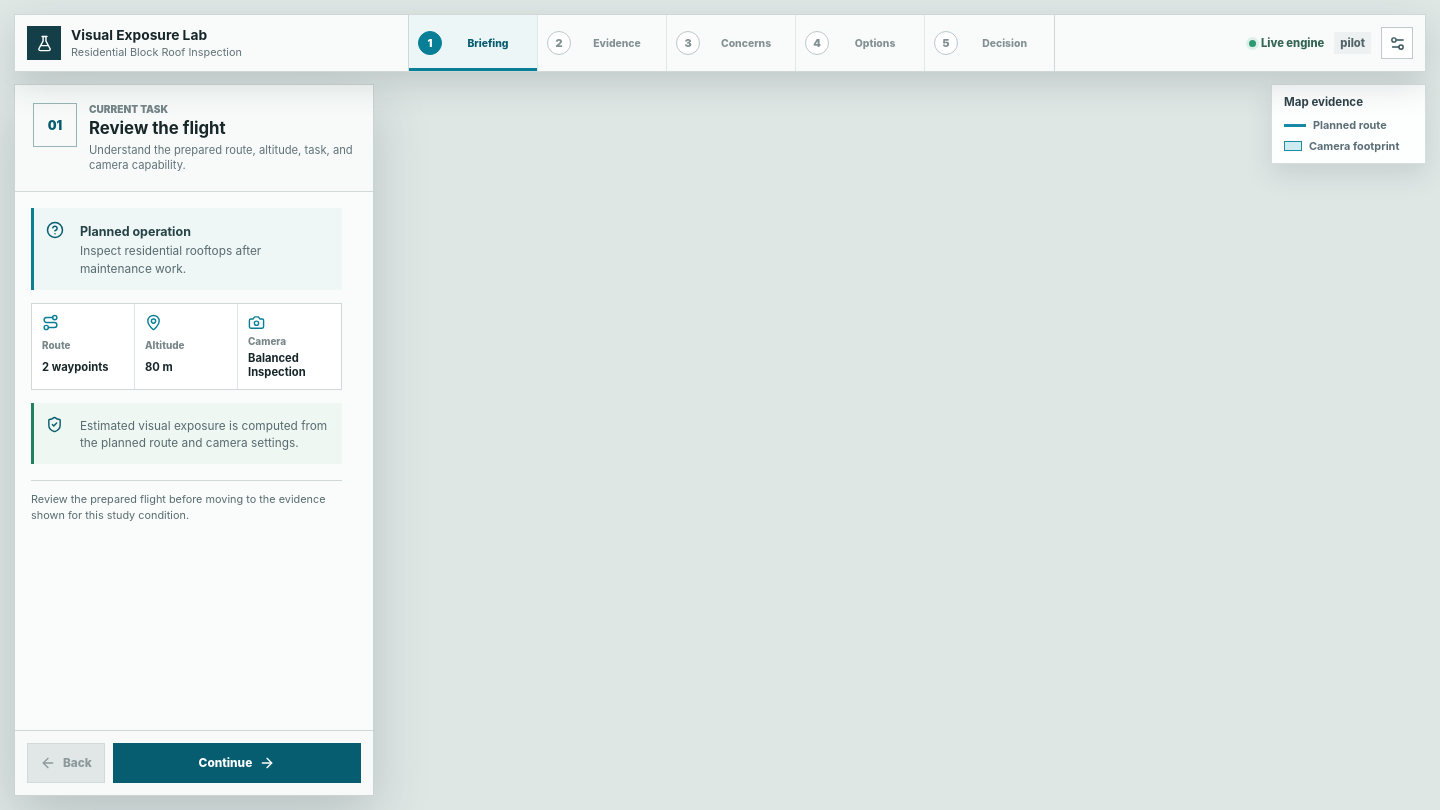
it: Guided App V2 › keeps facilitator controls in a separate drawer
Expected: the heading "Review the flight" is shown, [89, 118, 226, 138]
Expected: the field labelled "Route file" is not shown
What coordinates should you click on to do the following:
click the button named "Researcher controls"
I would click on:
 (1397, 43)
Its box is [1381, 27, 1413, 59].
(page scrolled)
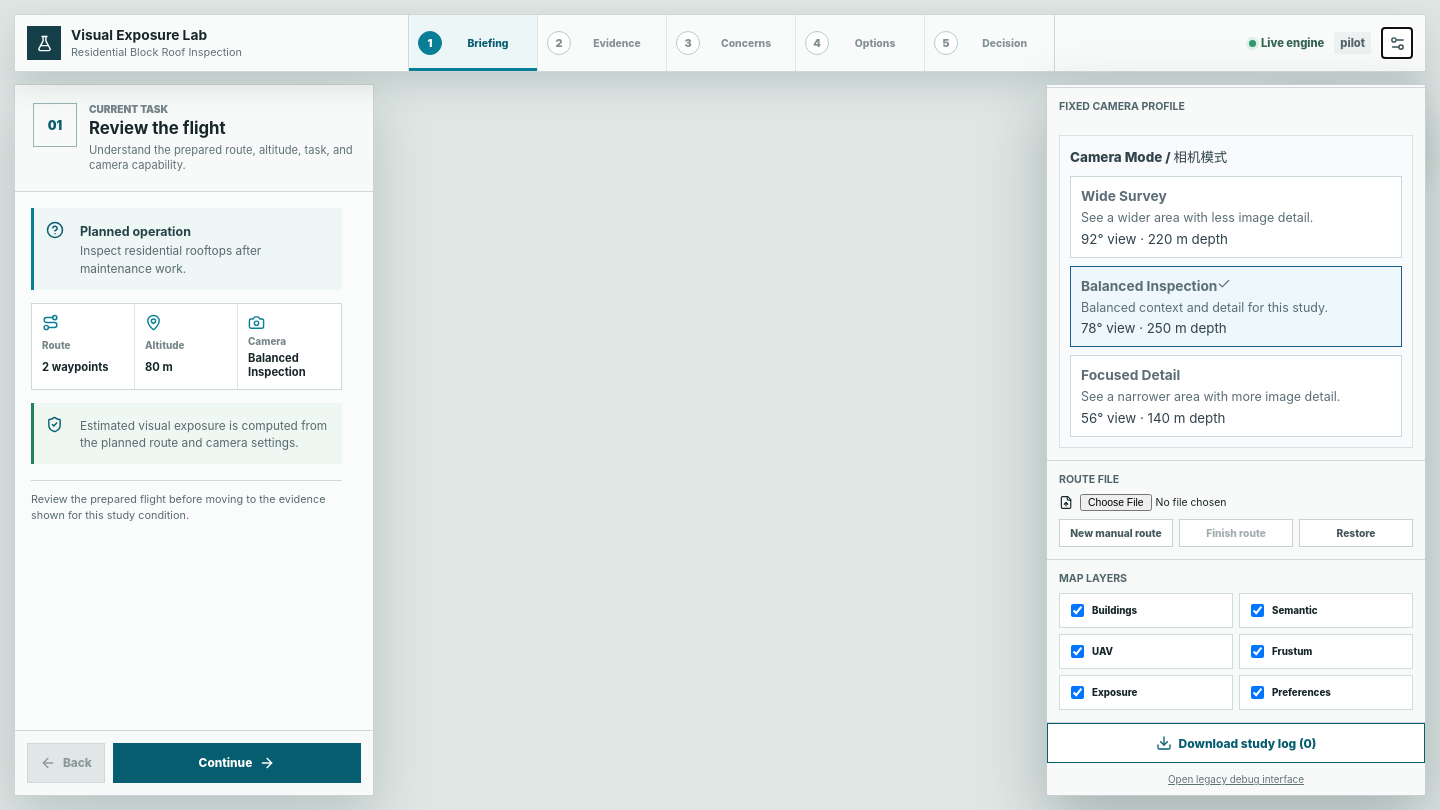
Expected: the file field named "Route file" is shown, [1080, 494, 1413, 511]
Expected: the button "Download study log (0)" is shown, [1047, 723, 1425, 763]
